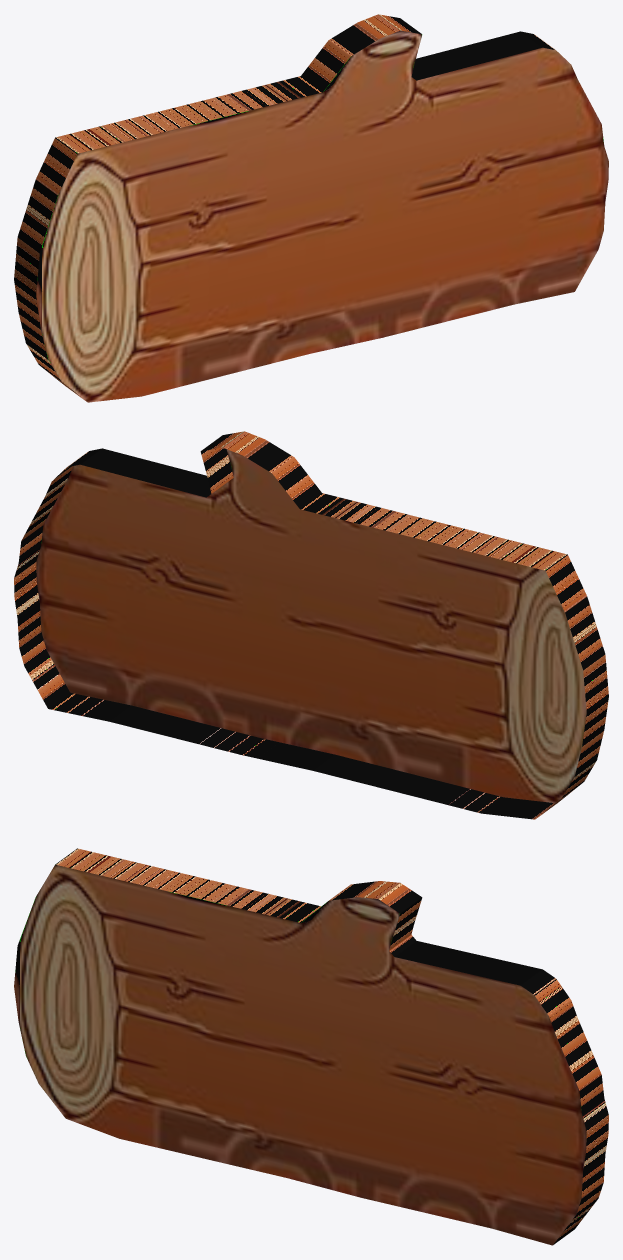
Rendered from Maruta.FBX.
The picture shows the model from 3 angles, top to bottom: view 1: azimuth 30°, elevation 25°; view 2: azimuth 150°, elevation 25°; view 3: azimuth 330°, elevation 25°; orthographic projection.
Parts seen in each view (by area): view 1: Line001; view 2: Line001; view 3: Line001.
Boxes of the visible parts, box(x1,y1,x2,y2) form: Line001: box(14, 14, 608, 402); Line001: box(14, 431, 608, 819); Line001: box(14, 848, 608, 1245).
Bounding box in the file's own units: 117 × 59.43 × 7.87.
Materials: 1 (1 with a texture image).
